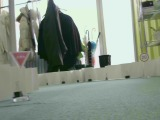stop: (6, 50, 32, 71)
